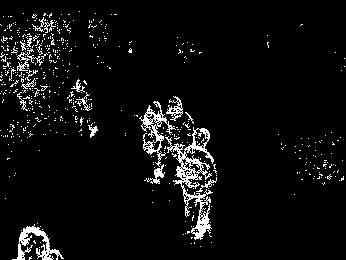person: (180, 125, 217, 244), (165, 94, 194, 173), (142, 100, 169, 182), (69, 77, 98, 141)
